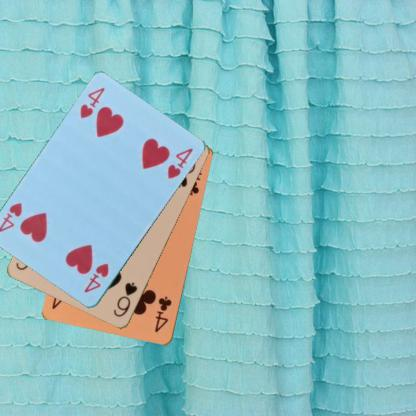4c: (152, 294, 173, 334)
4h: (78, 85, 106, 120), (82, 260, 110, 294)
6s: (111, 280, 139, 319)
